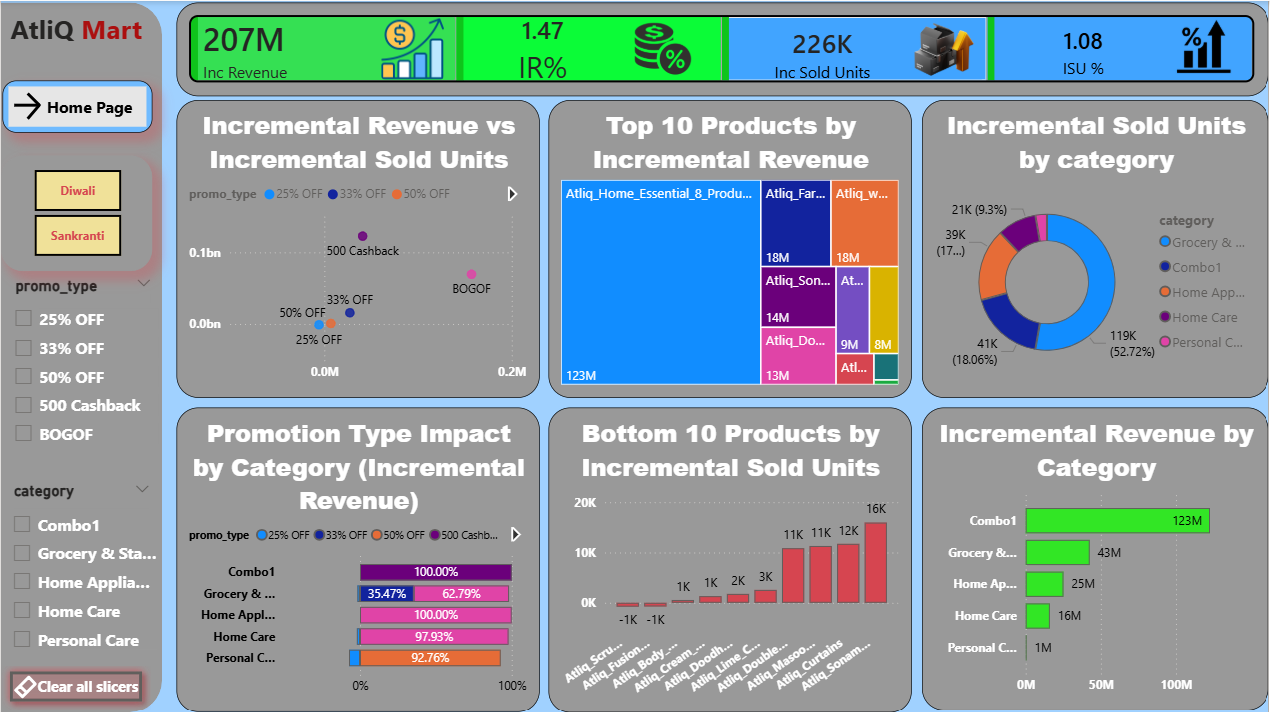

The dashboard page shown, as its layout file describes it:
{"tool":"powerbi","page":{"name":"Product & Category Analysis","canvas":[1280,720],"ordinal":3},"visuals":[{"type":"shape","box":[0,2,162.5,717.2],"z":0},{"type":"cardVisual","fields":{"Data":["retail_events_db fact_events.Inc Revenue","retail_events_db fact_events.IR%","retail_events_db fact_events.Incremental Sold Units","retail_events_db fact_events.ISU %"]},"box":[176.9,1.4,1103,94.9],"z":1000},{"type":"slicer","fields":{"Values":["retail_events_db dim_products.category"]},"box":[0,480,162,187.8],"z":2000},{"type":"slicer","fields":{"Values":["retail_events_db fact_events.promo_type"]},"box":[1.5,272.6,162,207.4],"z":3000},{"type":"slicer","fields":{"Values":["retail_events_db dim_campaigns.campaign_name"]},"box":[0,156,152.9,116.6],"z":4000},{"type":"clusteredBarChart","title":"Incremental Revenue by Category","fields":{"Category":["retail_events_db dim_products.category"],"Y":["retail_events_db fact_events.Inc Revenue"]},"box":[929,409.9,350.9,306.3],"z":5000},{"type":"donutChart","title":"Incremental Sold Units by category","fields":{"Category":["retail_events_db dim_products.category"],"Y":["retail_events_db fact_events.Inc Sold Units"]},"box":[929,100.7,350.9,300.6],"z":6000},{"type":"hundredPercentStackedBarChart","title":"Promotion Type Impact by Category (Incremental Revenue)","fields":{"Category":["retail_events_db dim_products.category"],"Y":["retail_events_db fact_events.Inc Revenue"],"Series":["retail_events_db fact_events.promo_type"]},"box":[176.9,409.9,366.7,307.8],"z":7000},{"type":"treemap","title":"Top 10 Products by Incremental Revenue","fields":{"Group":["retail_events_db dim_products.product_name"],"Values":["retail_events_db fact_events.Inc Revenue"]},"box":[552.2,100.7,366.7,300.6],"z":8000},{"type":"clusteredColumnChart","title":"Bottom 10 Products by Incremental Sold Units","fields":{"Category":["retail_events_db dim_products.product_name"],"Y":["retail_events_db fact_events.Inc Sold Units"]},"box":[552.7,410.3,366.4,308.9],"z":9000},{"type":"scatterChart","title":"Incremental Revenue vs Incremental Sold Units","fields":{"X":["retail_events_db fact_events.Inc Sold Units"],"Y":["retail_events_db fact_events.Inc Revenue"],"Series":["retail_events_db fact_events.promo_type"]},"box":[176.9,100.7,366.7,300.6],"z":10000},{"type":"textbox","box":[0,3.9,152.1,63.6],"z":11000},{"type":"actionButton","box":[0,667.8,151.4,48.5],"z":12000},{"type":"actionButton","box":[1.5,80.3,151.4,53],"z":13000}]}

Visuals, with their boxes in screenshot pixels (x1, y1, x2, y2), scaled from the page's 1280x720 canvas onto the 1270x712 screenshot:
shape: bbox=[0, 2, 161, 711]
cardVisual - retail_events_db fact_events.Inc Revenue x retail_events_db fact_events.IR%: bbox=[176, 1, 1269, 95]
slicer - retail_events_db dim_products.category: bbox=[0, 475, 161, 660]
slicer - retail_events_db fact_events.promo_type: bbox=[1, 270, 162, 475]
slicer - retail_events_db dim_campaigns.campaign_name: bbox=[0, 154, 152, 270]
"Incremental Revenue by Category" clusteredBarChart: bbox=[922, 405, 1269, 708]
"Incremental Sold Units by category" donutChart: bbox=[922, 100, 1269, 397]
"Promotion Type Impact by Category (Incremental Revenue)" hundredPercentStackedBarChart: bbox=[176, 405, 539, 710]
"Top 10 Products by Incremental Revenue" treemap: bbox=[548, 100, 912, 397]
"Bottom 10 Products by Incremental Sold Units" clusteredColumnChart: bbox=[548, 406, 912, 711]
"Incremental Revenue vs Incremental Sold Units" scatterChart: bbox=[176, 100, 539, 397]
textbox: bbox=[0, 4, 151, 67]
actionButton: bbox=[0, 660, 150, 708]
actionButton: bbox=[1, 79, 152, 132]
